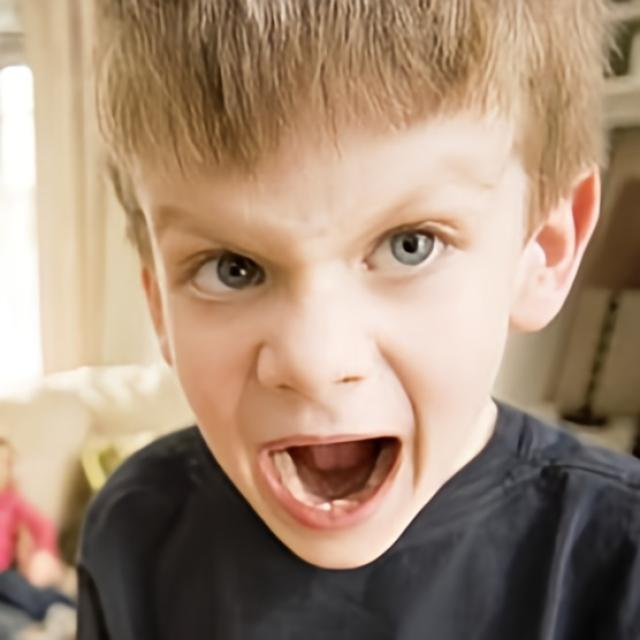anger: (161, 74, 510, 572)
